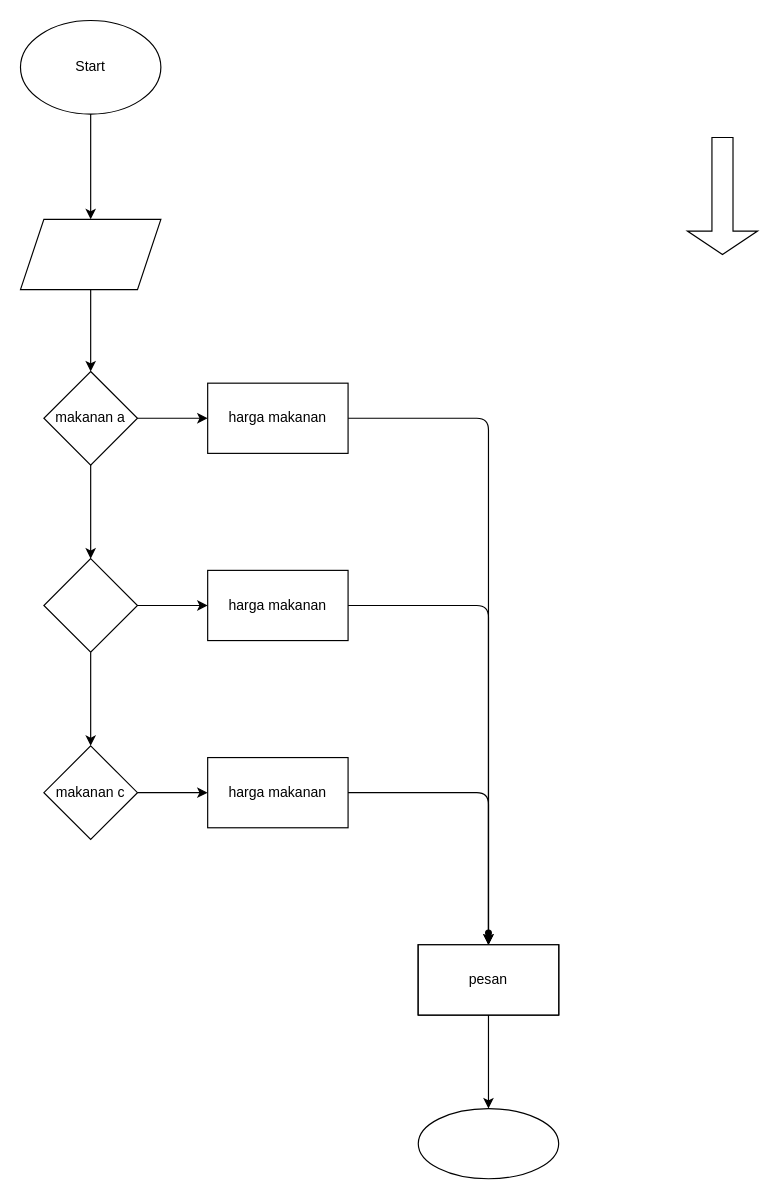
Image size: 778x1199. Some labels were removed from this diagram. Each missing label, with the centre of its shape:
"end" goes at (488,1143).
"makanan b" goes at (90,605).
"menu makanan" goes at (90,254).
